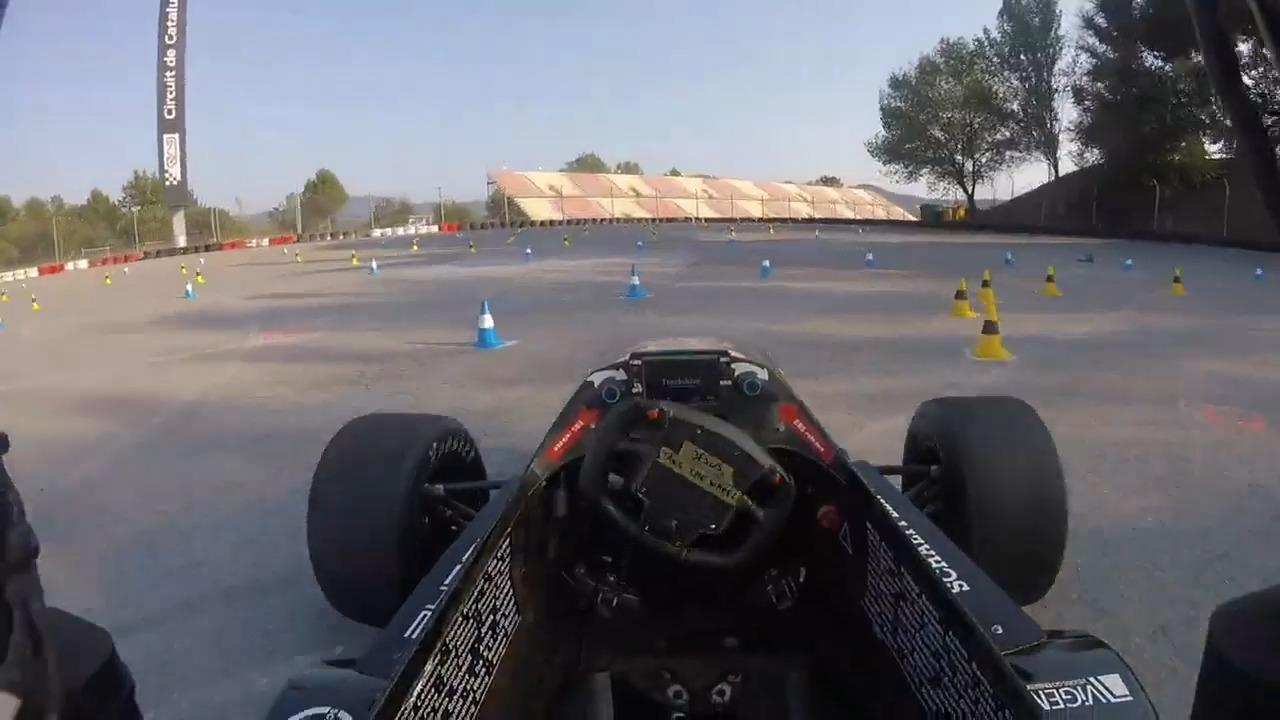blue_cone: (468, 298, 504, 350), (621, 264, 648, 303), (1121, 255, 1138, 278), (1003, 246, 1018, 269), (861, 247, 878, 267), (1251, 266, 1266, 287), (760, 258, 773, 282), (369, 256, 381, 277), (185, 282, 196, 300)
yellow_cone: (970, 302, 1013, 362), (949, 276, 976, 319), (1036, 263, 1062, 301), (976, 268, 999, 309), (1165, 267, 1188, 298), (29, 292, 42, 311), (193, 268, 206, 285), (351, 250, 360, 266), (103, 271, 113, 285), (469, 241, 476, 255)
